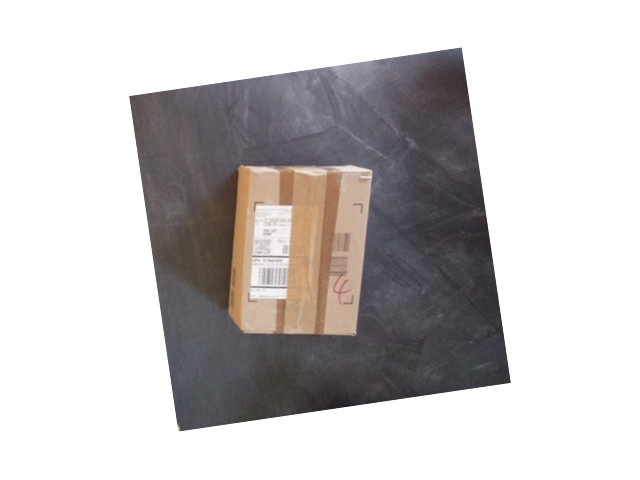cardboard: (227, 163, 372, 334)
